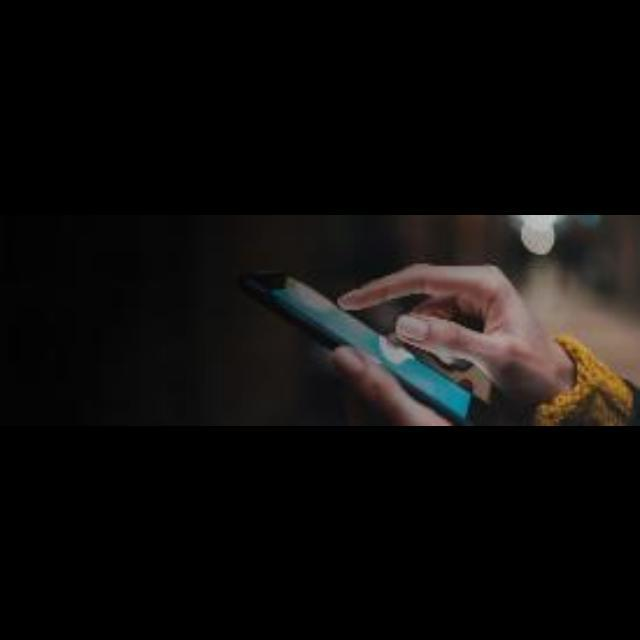Phone: (239, 268, 497, 426)
